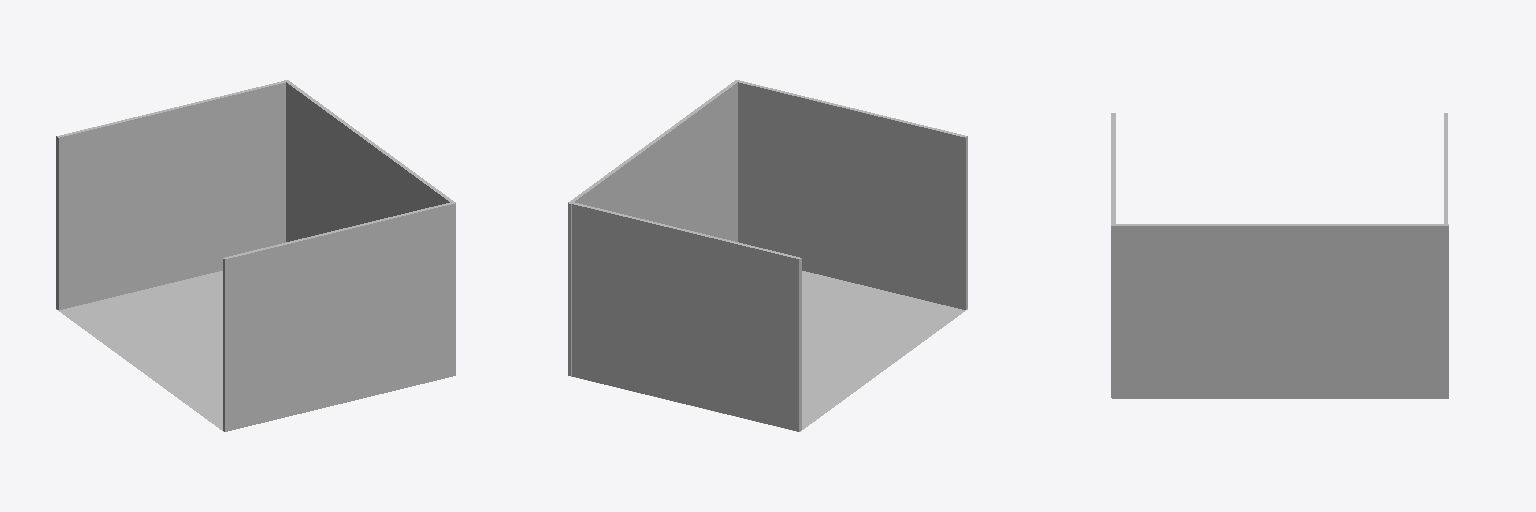
File: Escenario2.obj
3 views of the same model, side by side, from view 1: azimuth 30°, elevation 25°; view 2: azimuth 150°, elevation 25°; view 3: azimuth 270°, elevation 25° (orthographic).
Visible parts, largest first — view 1: Pared_referencia.002, Pared_referencia.003, Pared_referencia.001, Suelo; view 2: Pared_referencia.003, Pared_referencia.002, Pared_referencia.001, Suelo; view 3: Pared_referencia.001, Pared_referencia.002.
Boxes of the visible parts, x1=… form: Pared_referencia.002: x1=223, y1=202, x2=454, y2=431; Pared_referencia.003: x1=56, y1=81, x2=286, y2=309; Pared_referencia.001: x1=284, y1=80, x2=455, y2=375; Suelo: x1=56, y1=271, x2=223, y2=431; Pared_referencia.003: x1=572, y1=202, x2=801, y2=431; Pared_referencia.002: x1=738, y1=80, x2=967, y2=309; Pared_referencia.001: x1=568, y1=80, x2=738, y2=376; Suelo: x1=575, y1=271, x2=967, y2=431; Pared_referencia.001: x1=1112, y1=224, x2=1448, y2=398; Pared_referencia.002: x1=1111, y1=113, x2=1115, y2=397.
Size of the model in its own units: 6.05 by 4.3 by 7.62.